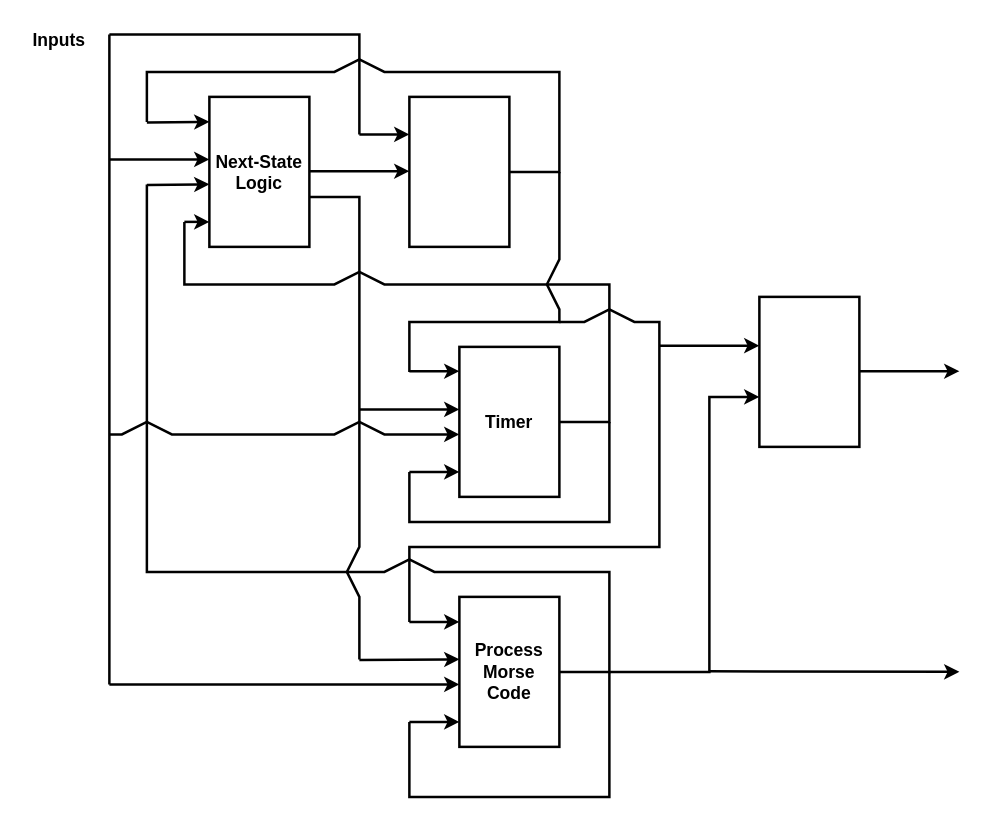
The diagram is 991 pixels wide and 820 high, and some of its shapes have lost their labels. Each missing label, with the centre of its shape:
Output Logic: the point at 809,371
State Register: the point at 459,171
